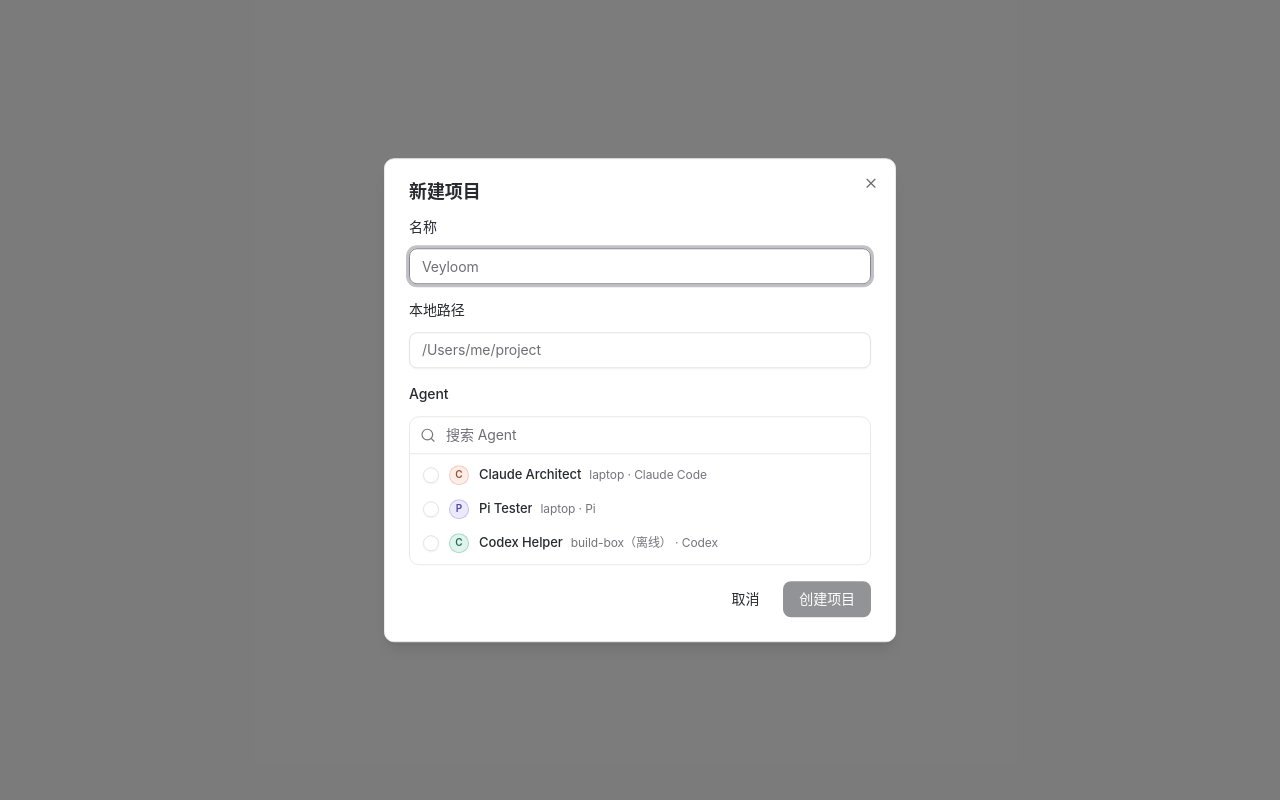
Test: NewProjectDialog › will not create a project without an agent
Type "New" into the field labelled "名称".
click(640, 266); type("New")  # box [409,248,871,284]
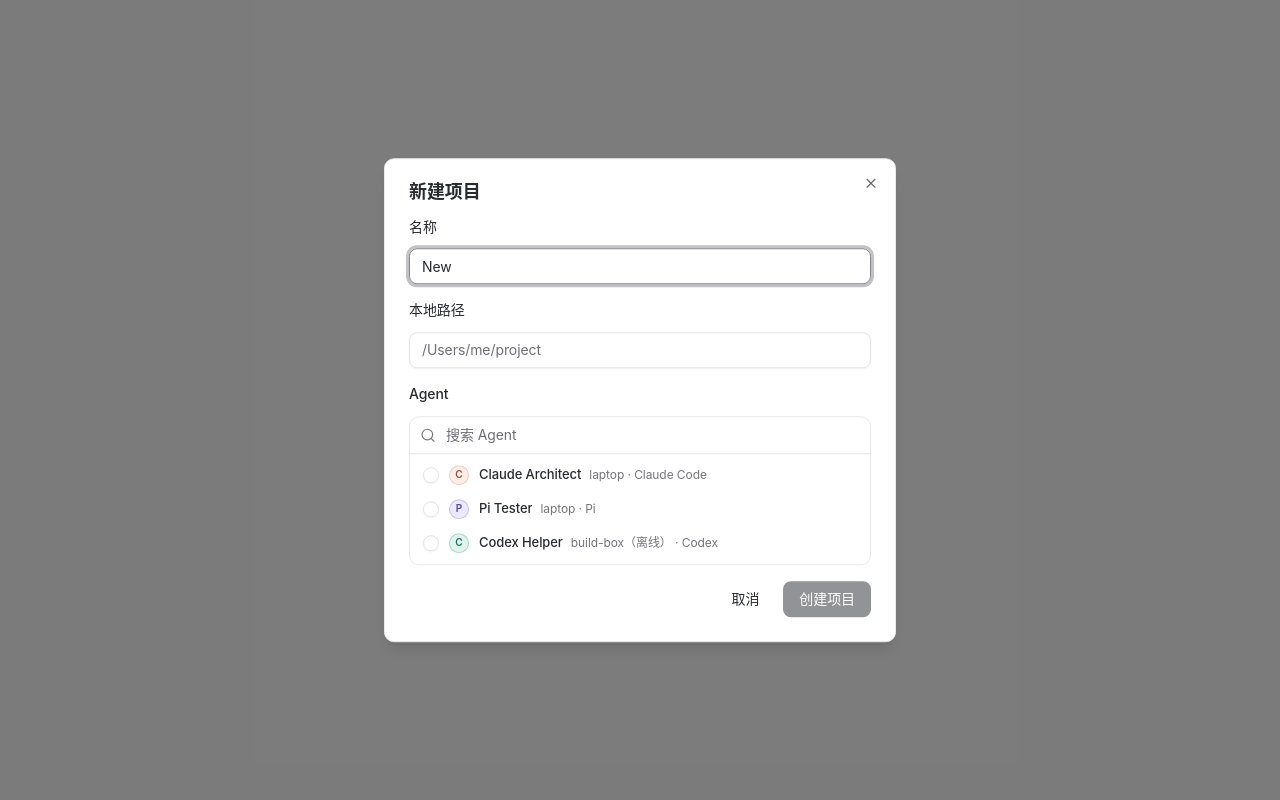
Expected: the button "创建项目" is disabled, [783,581,871,617]
Click the checkbox named "Claude Architect" in the row of "Claude Architect".
click(431, 475)  # box [423,467,439,483]
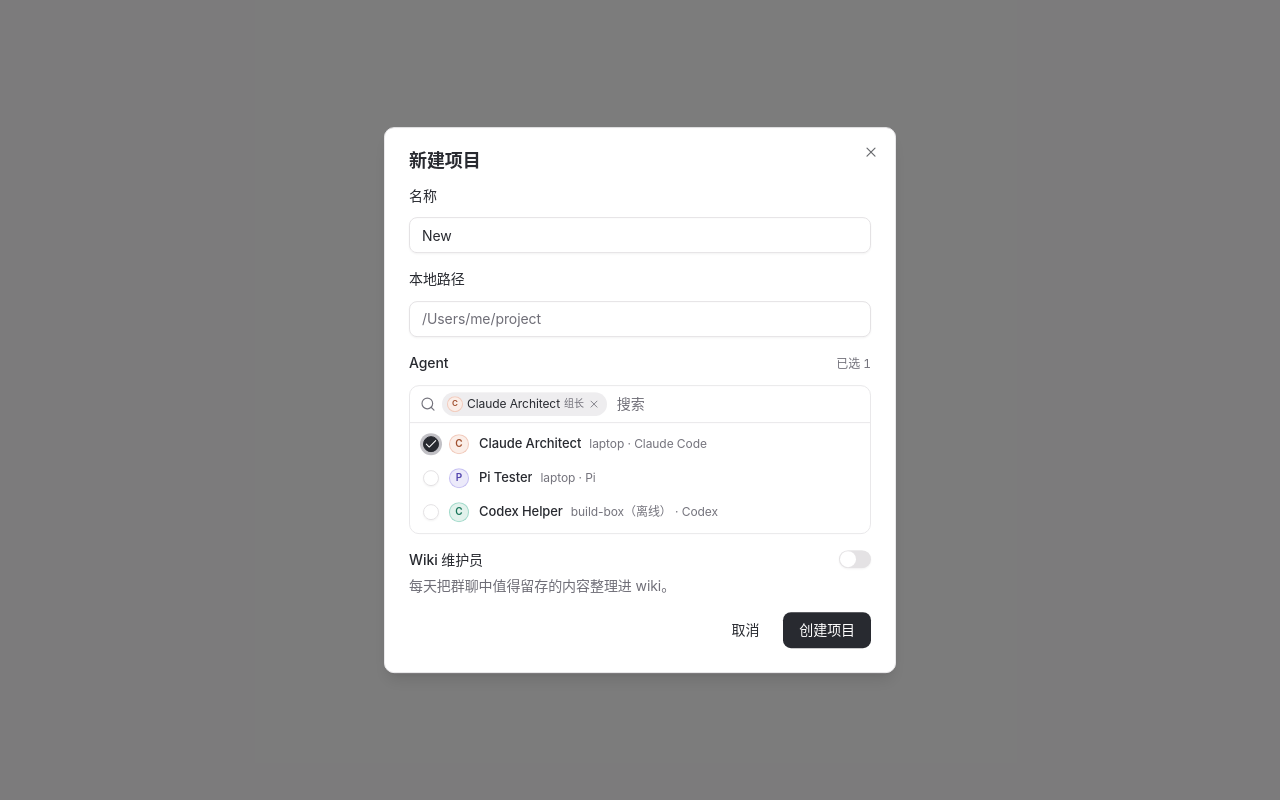
Expected: the button "创建项目" is enabled, [783,612,871,648]
Click the checkbox named "Claude Architect" in the row of "Claude Code".
click(431, 444)  # box [423,436,439,452]
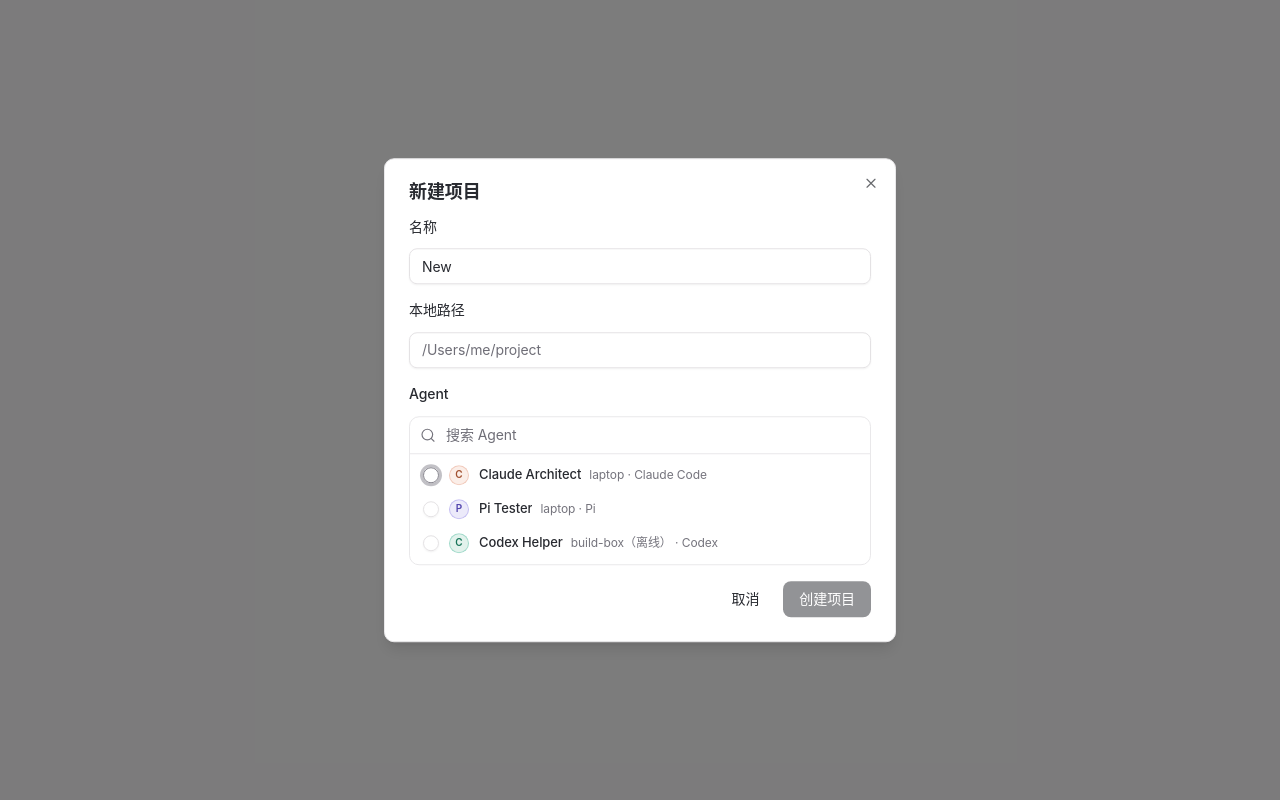
Expected: the button "创建项目" is disabled, [783,581,871,617]
